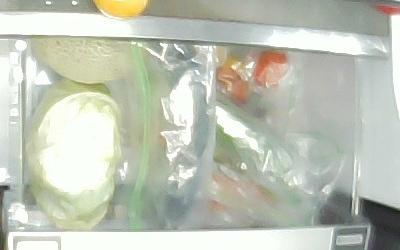cabbage: (29, 75, 124, 231)
eggplant_vinyl: (149, 42, 210, 229)
melon: (34, 37, 123, 83)
prune_vinyl: (216, 51, 255, 107), (250, 48, 289, 88)
